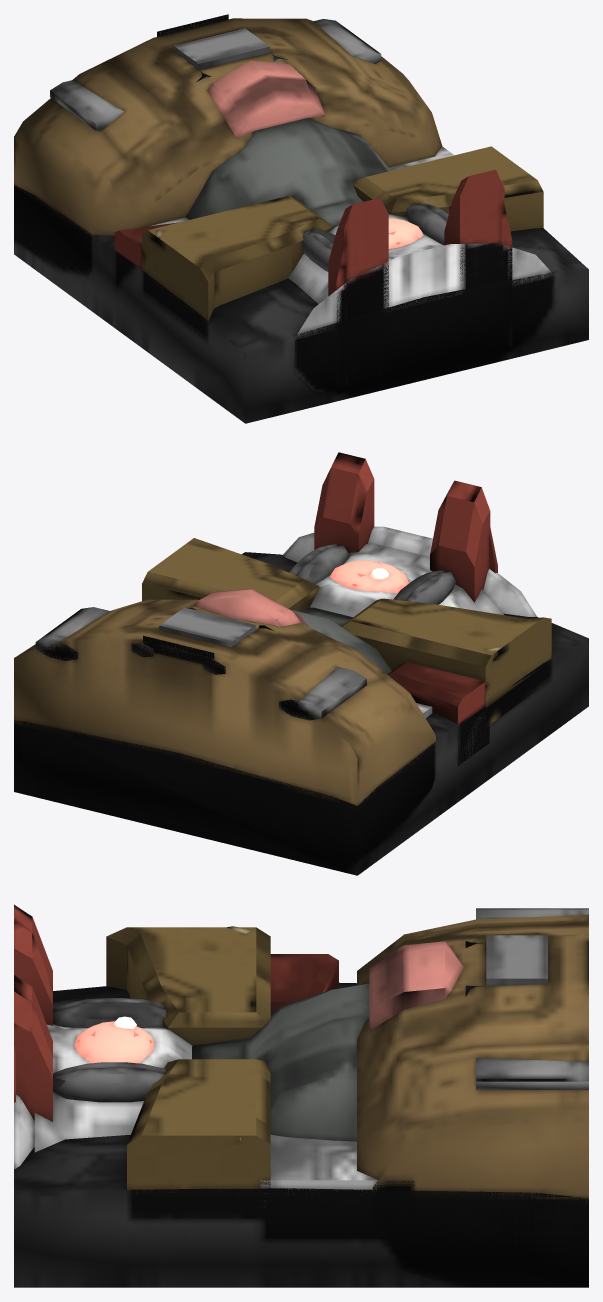
The model's file is newsh4-1-f2.glb.
3 renders of one model, top to bottom at view 1: azimuth 30°, elevation 25°; view 2: azimuth 150°, elevation 25°; view 3: azimuth 270°, elevation 25°, orthographic. The views are drawn at different scales.
Visible parts, largest first — view 1: newsh4-1, newsh4-eye-5, newsh4-eye-7, newsh4-eye-39; view 2: newsh4-1, newsh4-eye-39, newsh4-eye-5, newsh4-eye-7; view 3: newsh4-1, newsh4-eye-7, newsh4-eye-5, newsh4-eye-39.
Boxes of the visible parts, box(x1,y1,x2,y2) form: newsh4-1: box(14, 14, 588, 423); newsh4-eye-5: box(310, 204, 446, 245); newsh4-eye-7: box(302, 203, 448, 271); newsh4-eye-39: box(388, 218, 423, 248); newsh4-1: box(14, 452, 588, 875); newsh4-eye-39: box(330, 560, 408, 593); newsh4-eye-5: box(296, 545, 445, 600); newsh4-eye-7: box(289, 543, 456, 604); newsh4-1: box(14, 904, 588, 1287); newsh4-eye-7: box(53, 998, 164, 1102); newsh4-eye-5: box(53, 1002, 166, 1077); newsh4-eye-39: box(74, 1016, 154, 1063).
Bounding box in the file's own units: 2 × 1.07 × 2.33.
Materials: 13 (13 with a texture image).
